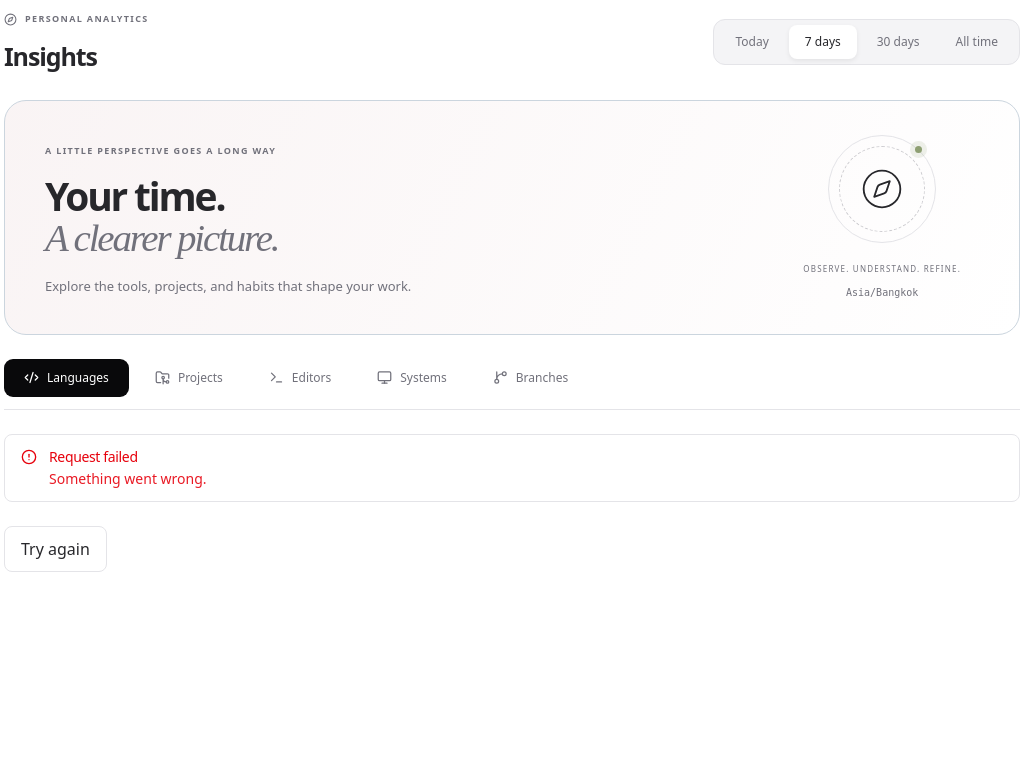
Test: Insights › shows empty and error states with a working retry
Expected: the text "Request failed" is shown, x1=49 y1=446 x2=138 y2=466
Click the button "Try again".
click(55, 548)  # box x1=4 y1=526 x2=107 y2=572
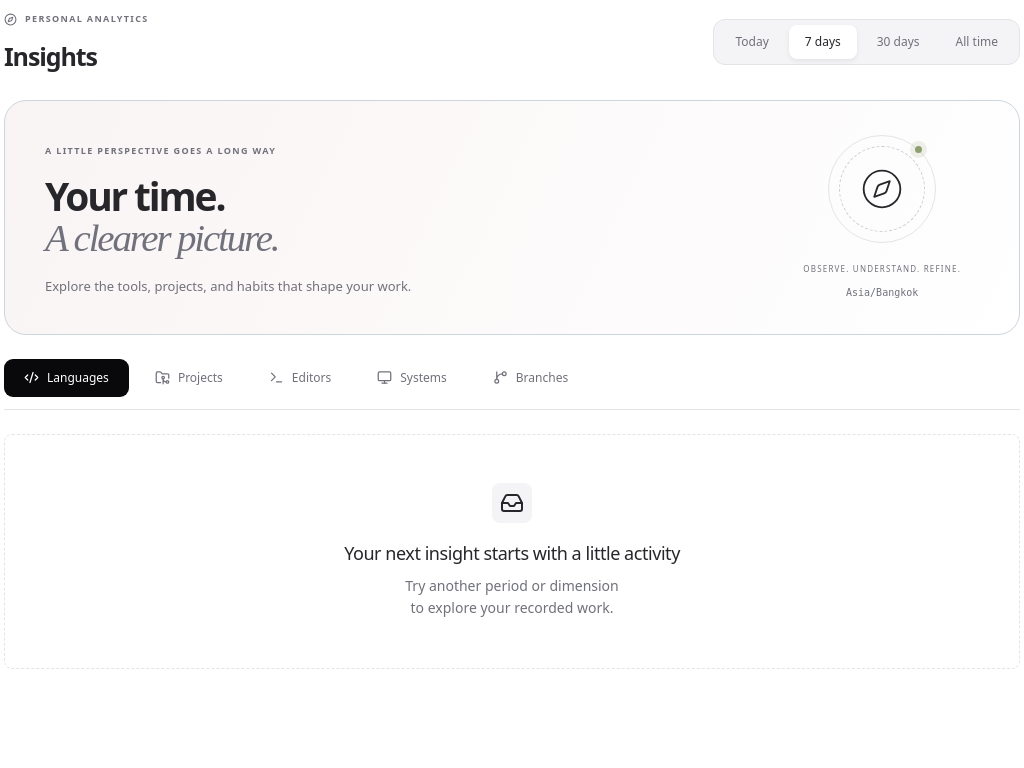
Now the text "Your next insight starts with a little activity" is shown, box x1=344 y1=538 x2=680 y2=566
